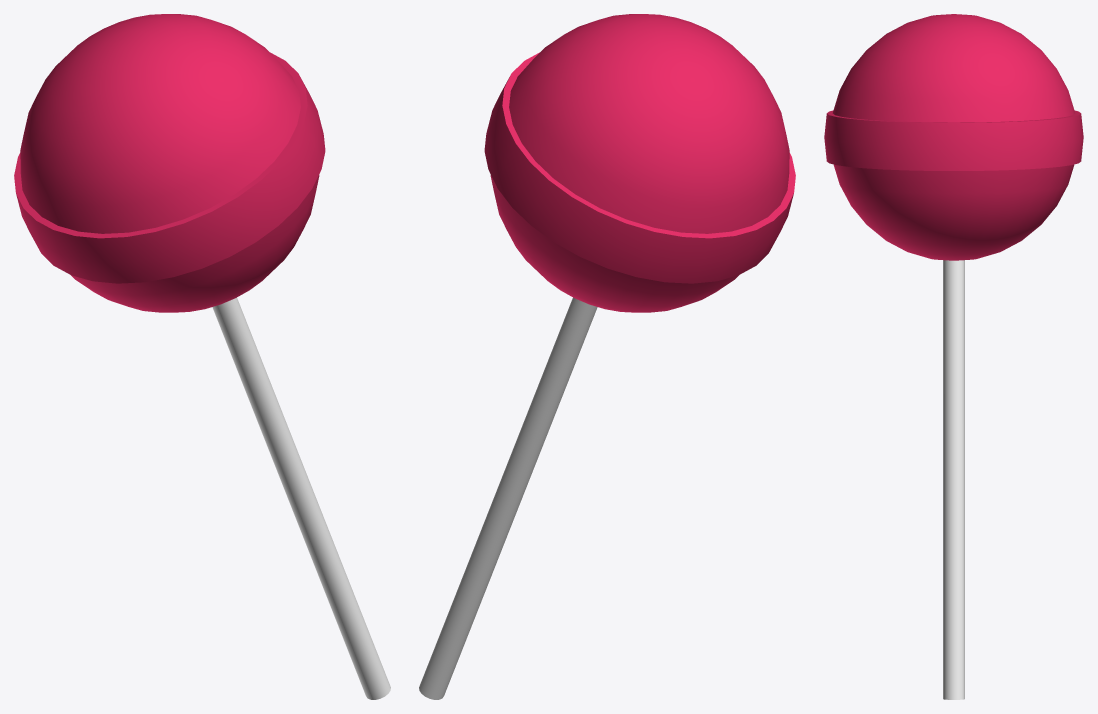
The model's file is lollipop.fbx.
3 views of the same model, side by side, from view 1: azimuth 30°, elevation 25°; view 2: azimuth 150°, elevation 25°; view 3: azimuth 270°, elevation 25° (orthographic). The views are drawn at different scales.
Parts seen in each view (by area): view 1: lollipop; view 2: lollipop; view 3: lollipop.
Boxes of the visible parts, bbox=[...] form: lollipop: bbox=[14, 14, 390, 699]; lollipop: bbox=[419, 14, 795, 699]; lollipop: bbox=[824, 14, 1083, 699].
Size of the model in its own units: 0.8258 by 0.4244 by 0.3272.
